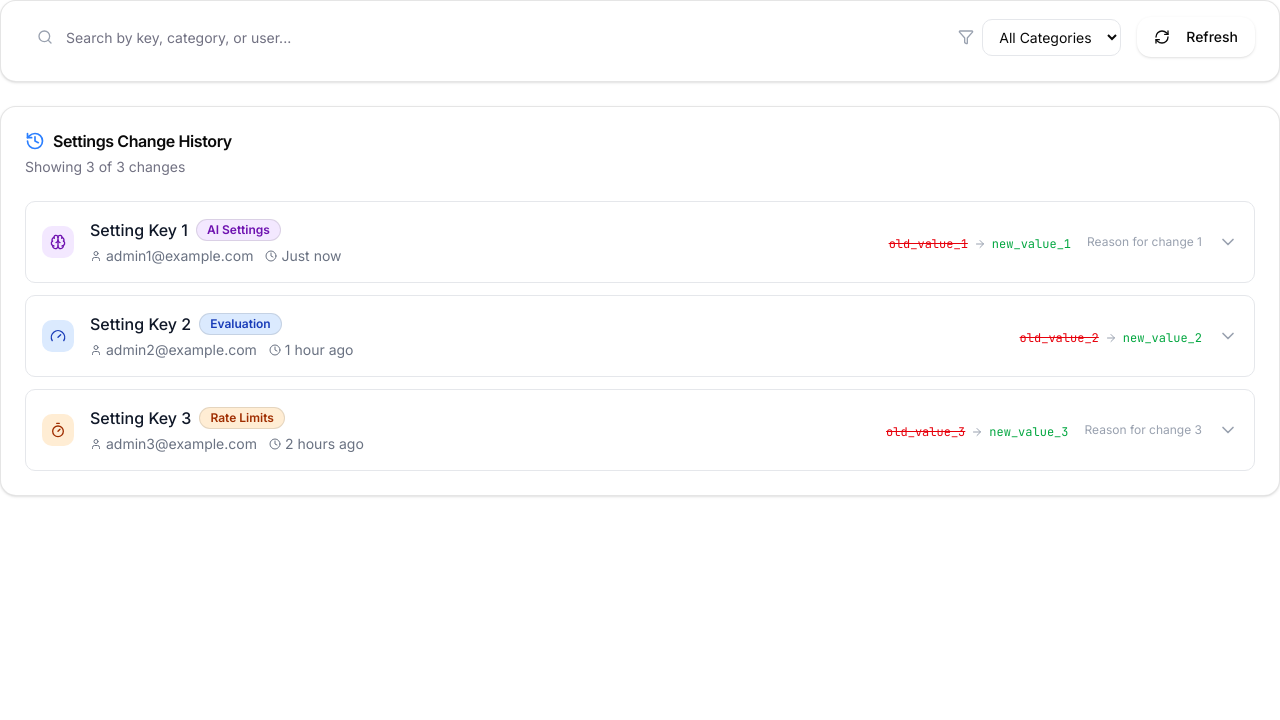
Test: SettingsHistoryPanel › Search Functionality › should show no matches message when search has no results
Expected: the heading "Settings Change History" is shown, [25,131,232,151]
Type "nonexistent_setting_xyz" into the field with placeholder "Search by key, category, or user..." at (484, 37), box [25,17,942,57]
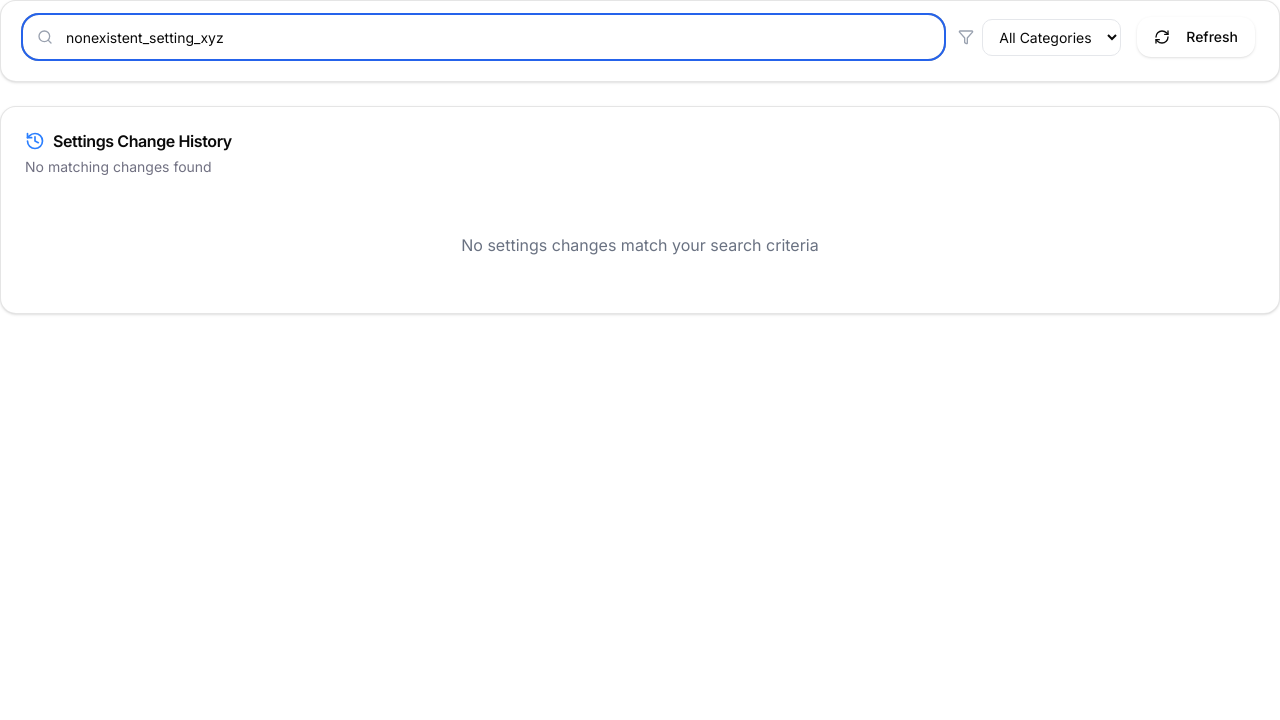
Result: the text "No settings changes match your search criteria" is shown at [461,235,819,255]
